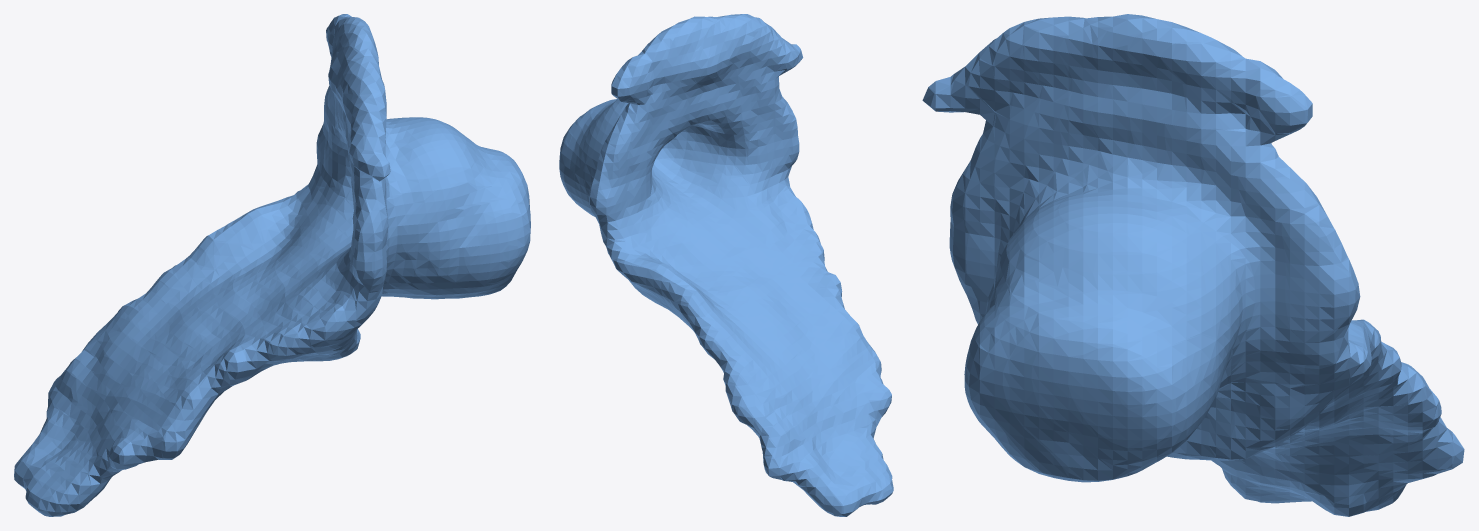
The model's file is water_0028.glb.
3 renders of one model, left to right at view 1: azimuth 30°, elevation 25°; view 2: azimuth 150°, elevation 25°; view 3: azimuth 270°, elevation 25°, orthographic. The views are drawn at different scales.
Visible parts, largest first — view 1: Water_0028; view 2: Water_0028; view 3: Water_0028.
Part boxes in pixels (box(x1,y1,x2,y2)): Water_0028: box(14, 14, 530, 516); Water_0028: box(559, 14, 893, 516); Water_0028: box(922, 14, 1464, 516).
Size of the model in its own units: 2.87 by 2.92 by 2.14.
